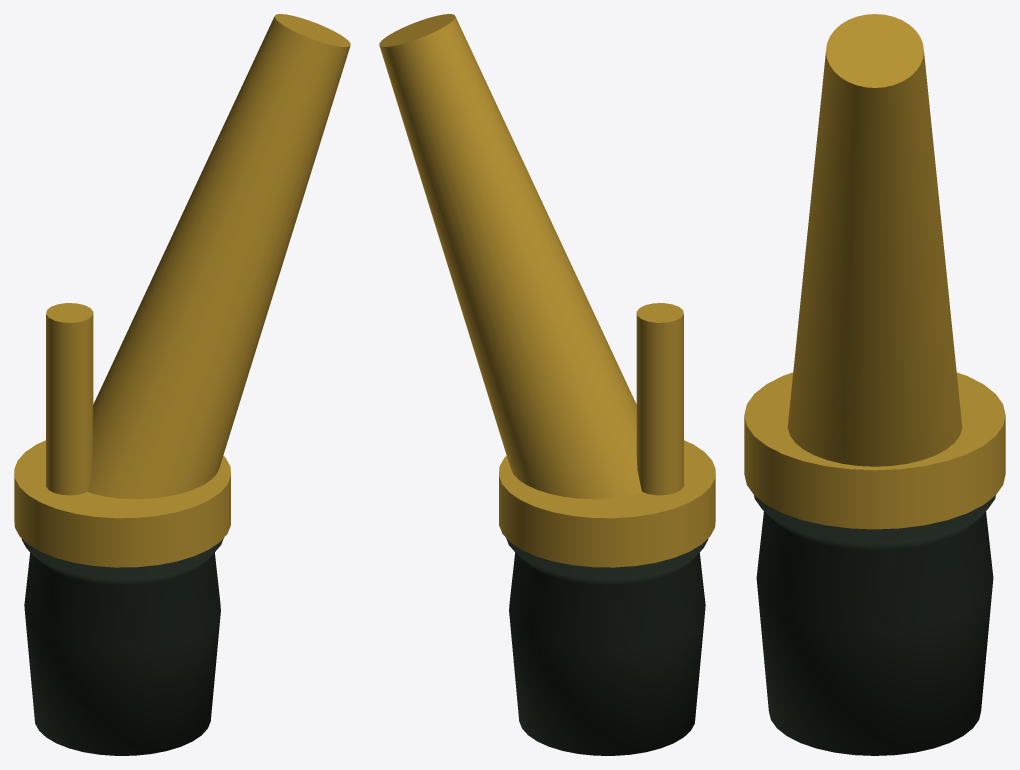
The model's file is pourer.glb.
3 renders of one model, left to right at view 1: azimuth 30°, elevation 25°; view 2: azimuth 150°, elevation 25°; view 3: azimuth 270°, elevation 25°, orthographic. The views are drawn at different scales.
Visible parts, largest first — view 1: spout, stopper, collar, air_tube; view 2: spout, stopper, collar, air_tube; view 3: spout, stopper, collar.
Part boxes in pixels (x1,y1,x2,y2): spout: [88, 14, 350, 499]; stopper: [21, 538, 223, 755]; collar: [14, 440, 230, 567]; air_tube: [46, 303, 93, 495]; spout: [379, 14, 641, 499]; stopper: [506, 538, 708, 755]; collar: [499, 440, 715, 567]; air_tube: [636, 303, 683, 495]; spout: [787, 14, 962, 466]; stopper: [754, 495, 995, 755]; collar: [744, 372, 1005, 529].
Size of the model in its own units: 0.0538 by 0.1087 by 0.032.
